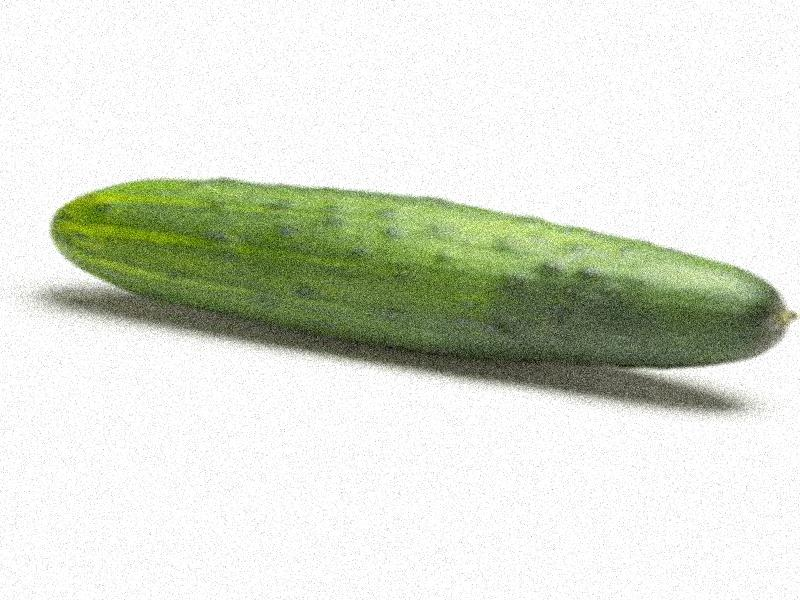Cucumber: (53, 177, 796, 373)
